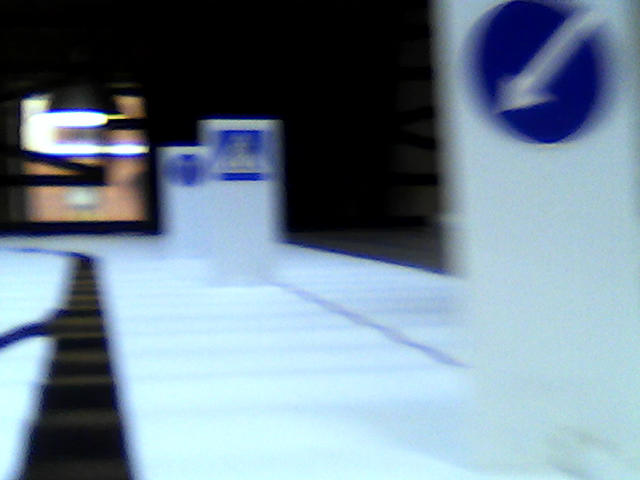prep: (472, 2, 611, 148)
